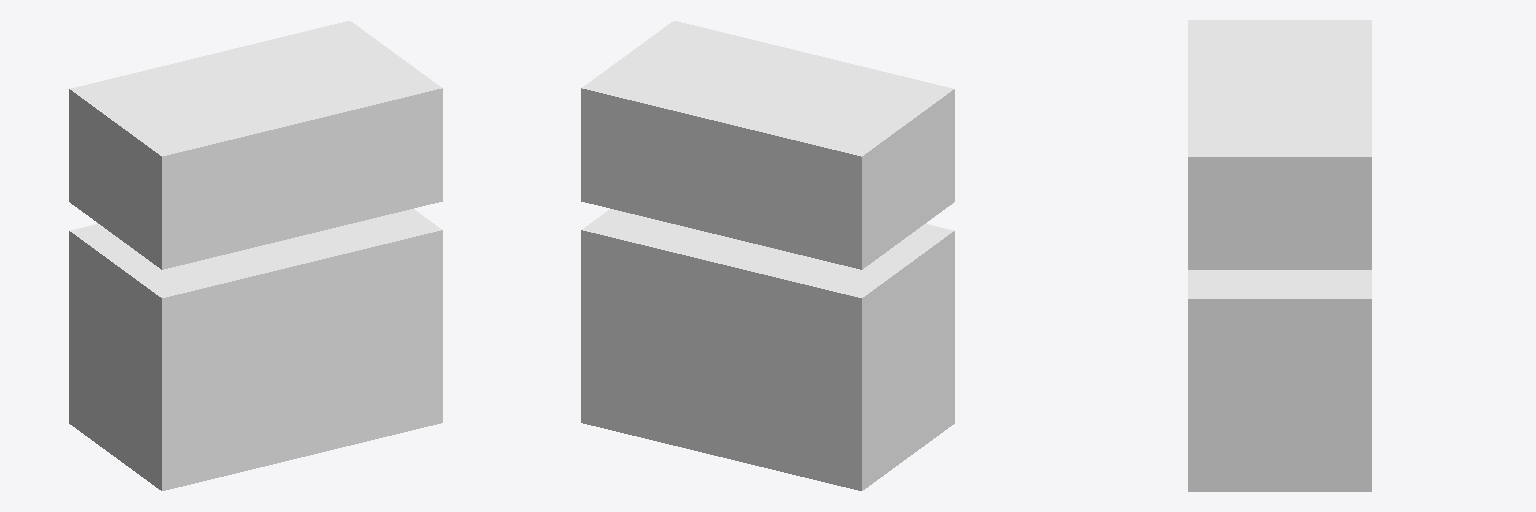
The robot description file, URDF, robot "table":
<?xml version="0.0" ?>
<robot name="table">
	<link name="tablelink">
		<inertial>
			<origin rpy="0.00000 -0.00000 0.00000" xyz="0.00000 0.00000 0.00000"/>
			<mass value="1090.88002"/>
			<inertia ixx="147.19399" ixy="0" ixz="0" iyy="277.05234" iyz="0" izz="258.75746"/>
		</inertial>
		<visual>
			<origin rpy="0.00000 -0.00000 0.00000" xyz="0.00000 0.00000 -0.02700"/>
			<geometry>
				<box size="0.70000 0.40000 0.2700"/>
			</geometry>
			<material name="mat_-1_0">
				<color rgba="1.00000 1.00000 1.00000 1.00000" />
			</material>
		</visual>
		<visual>
			<origin rpy="0.00000 -0.00000 0.00000" xyz="0.00000 0.00000 -0.65000"/>
			<geometry>
				<mesh filename="meshes/table/tablebody.stl" scale="1.00000 1.00000 1.00000"/>
			</geometry>
			<material name="mat_-1_1">
				<color rgba="1.00000 1.00000 1.00000 1.00000" />
			</material>
		</visual>
		<visual>
			<origin rpy="0.00000 -0.00000 0.00000" xyz="0.00000 0.00000 -0.46000"/>
			<geometry>
				<box size="0.7 0.4 0.46"/>
			</geometry>
			<material name="mat_-1_2">
				<color rgba="1.00000 1.00000 1.00000 1.00000" />
			</material>
		</visual>
		<collision>
			<origin rpy="0.00000 -0.00000 0.00000" xyz="0.00000 0.00000 -0.02700"/>
			<geometry>
				<box size="0.70000 0.40000 0.2700"/>
			</geometry>
		</collision>
		<collision>
			<origin rpy="0.00000 -0.00000 0.00000" xyz="0.00000 0.00000 -0.65000"/>
			<geometry>
				<mesh filename="meshes/table/tablebody.stl" scale="1.00000 1.00000 1.00000"/>
			</geometry>
		</collision>
		<collision>
			<origin rpy="0.00000 -0.00000 0.00000" xyz="0.00000 0.00000 -0.46000"/>
			<geometry>
				<box size="0.7 0.4 0.46"/>
			</geometry>
		</collision>
	</link>
</robot>

--- Render facts (derived) ---
Views: 3 orthographic renders of the robot side by side, from view 1: azimuth 30°, elevation 25°; view 2: azimuth 150°, elevation 25°; view 3: azimuth 270°, elevation 25°.
Model table with 1 links and 0 joints (none), rooted at tablelink, posed every joint at zero.
Links seen in each view (by area): view 1: tablelink; view 2: tablelink; view 3: tablelink.
Link boxes in pixels (x1=…): tablelink: x1=69, y1=21, x2=442, y2=490; tablelink: x1=581, y1=21, x2=954, y2=490; tablelink: x1=1188, y1=20, x2=1371, y2=491.
Bounding box of the posed robot: 0.7 × 0.4 × 0.798 m (x, y, z).
Meshes: 1 distinct files referenced, 0 mesh visuals loaded (none loaded); not drawn: 1 (reference not matched to a file when rendering).